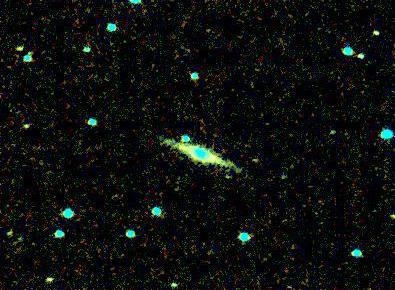star: (239, 146, 269, 176)
